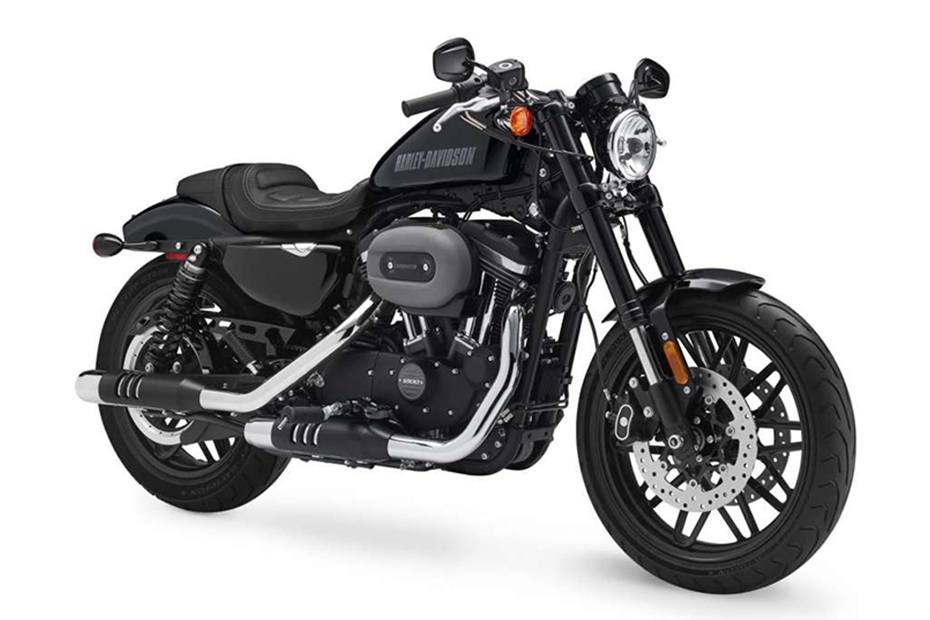motorcycle: (80, 62, 859, 591)
